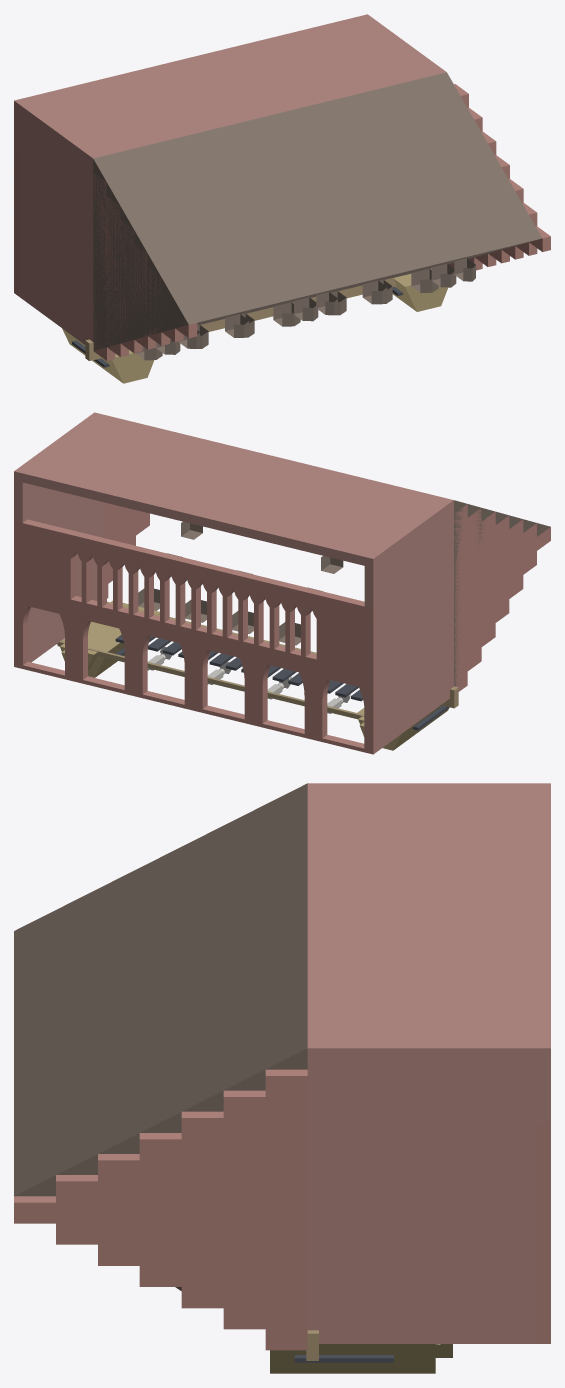
The model's file is eval_L3_voll.glb.
3 renders of one model, top to bottom at view 1: azimuth 30°, elevation 25°; view 2: azimuth 150°, elevation 25°; view 3: azimuth 270°, elevation 25°, orthographic. The views are drawn at different scales.
Parts seen in each view (by area): view 1: dach, waende, giebel, gauben, erker, cornice, fassade; view 2: waende, fassade, giebel, erker, fenster, gauben, dach, galerie, statuen, cornice; view 3: waende, dach, giebel, erker, fassade, fenster.
Boxes of the visible parts, x1,y1,x2,y2 form: dach: [93, 72, 542, 350]; waende: [14, 14, 446, 344]; giebel: [93, 84, 550, 360]; gauben: [135, 258, 475, 360]; erker: [62, 269, 448, 383]; cornice: [85, 268, 431, 360]; fassade: [14, 149, 18, 296]; waende: [14, 412, 453, 753]; fassade: [14, 519, 378, 754]; giebel: [103, 502, 550, 691]; erker: [60, 600, 448, 750]; fenster: [115, 635, 449, 730]; gauben: [138, 521, 343, 645]; dach: [454, 500, 550, 686]; galerie: [56, 641, 364, 719]; statuen: [147, 646, 350, 713]; cornice: [107, 601, 458, 708]; waende: [307, 783, 550, 1343]; dach: [14, 783, 307, 1196]; giebel: [14, 1069, 307, 1350]; erker: [270, 1344, 452, 1373]; fassade: [536, 1123, 550, 1343]; fenster: [294, 1355, 393, 1362].
Size of the model in its own units: 25.9 by 14.9 by 21.4.
